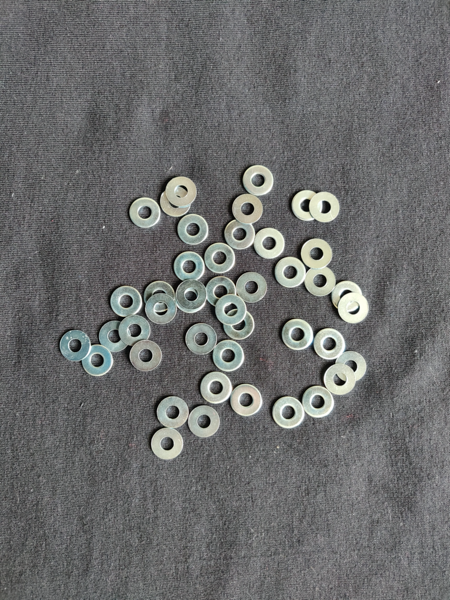circle: (150, 428, 184, 461), (273, 396, 306, 430), (157, 397, 189, 430), (143, 280, 175, 313), (303, 386, 335, 419), (313, 329, 346, 361), (188, 406, 220, 438), (59, 330, 91, 362), (201, 372, 233, 404), (146, 293, 178, 325), (231, 385, 263, 417), (282, 319, 314, 351), (336, 351, 368, 383), (110, 286, 141, 319), (129, 197, 162, 228), (82, 345, 113, 377), (130, 341, 162, 372), (99, 321, 130, 353), (186, 324, 217, 356), (214, 340, 245, 372), (225, 218, 256, 250), (255, 227, 286, 259), (292, 189, 323, 221), (332, 280, 363, 312), (325, 364, 356, 396), (118, 316, 151, 346), (224, 309, 255, 340), (205, 243, 236, 274), (237, 272, 268, 303), (302, 238, 333, 269), (339, 293, 370, 324), (217, 294, 247, 326), (243, 165, 275, 195), (310, 191, 340, 223), (161, 187, 192, 217), (206, 277, 237, 307), (175, 283, 205, 314), (178, 215, 209, 245), (233, 194, 264, 224), (275, 257, 306, 287), (305, 267, 336, 297), (167, 176, 197, 206), (177, 280, 207, 310), (175, 251, 205, 281)
